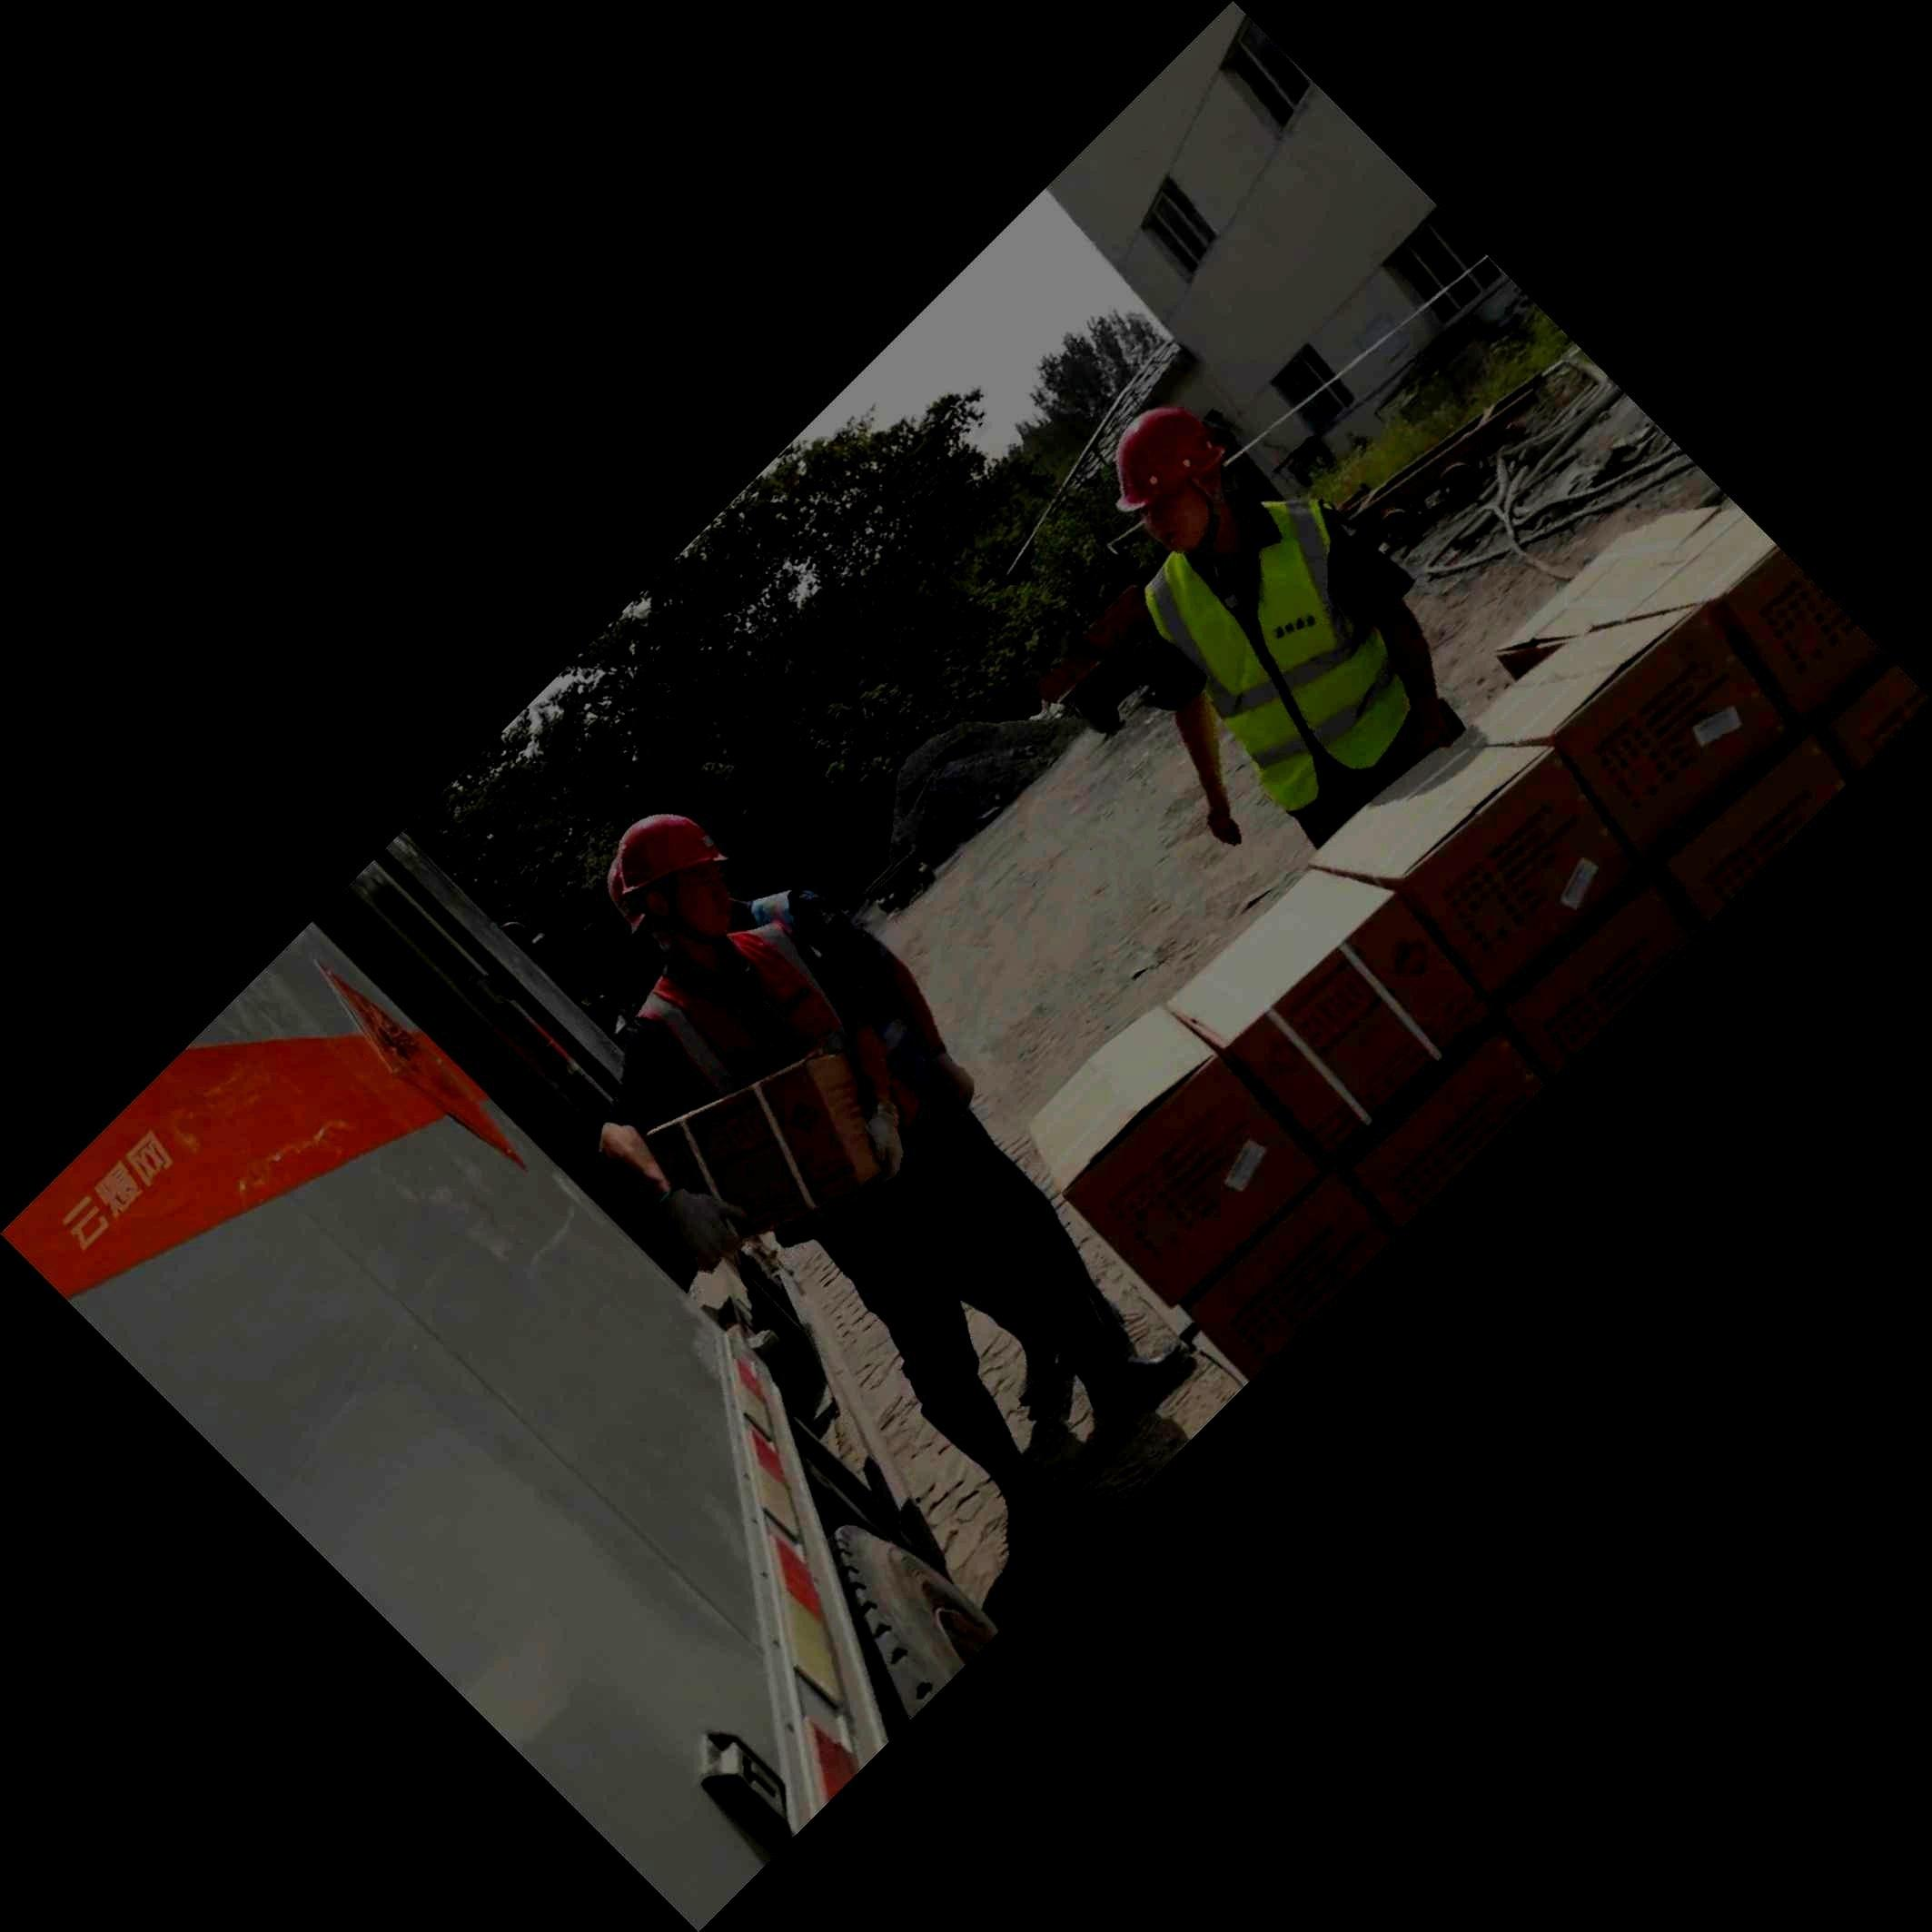helmet: (1115, 407, 1224, 552), (617, 814, 727, 941), (607, 855, 646, 934)
